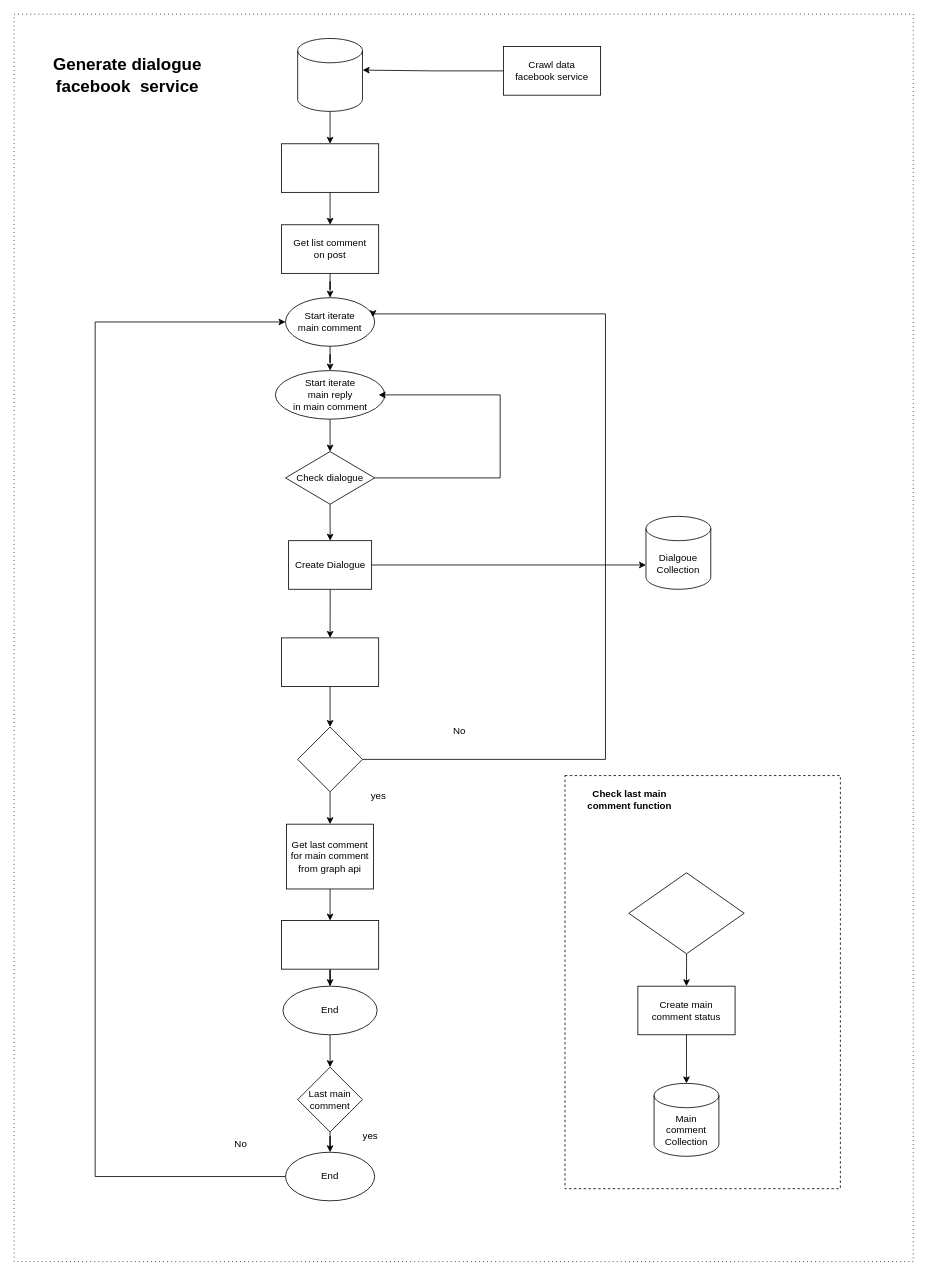
The diagram is 927 pixels wide and 1276 high, and some of its shapes have lost their labels. The shapes that lost their labels are listed below. From the top down, each one's box as (x1, y1, x2, y2) in pixels, then its label:
(297, 38, 362, 111): FB Collection
(281, 143, 379, 192): Get post in facebook
(281, 637, 379, 686): Append last comment in dialogue to list last comment
(297, 726, 362, 792): Last main reply
(628, 872, 744, 954): Last comment from graph api in list last comment
(281, 920, 379, 969): Check last main comment
